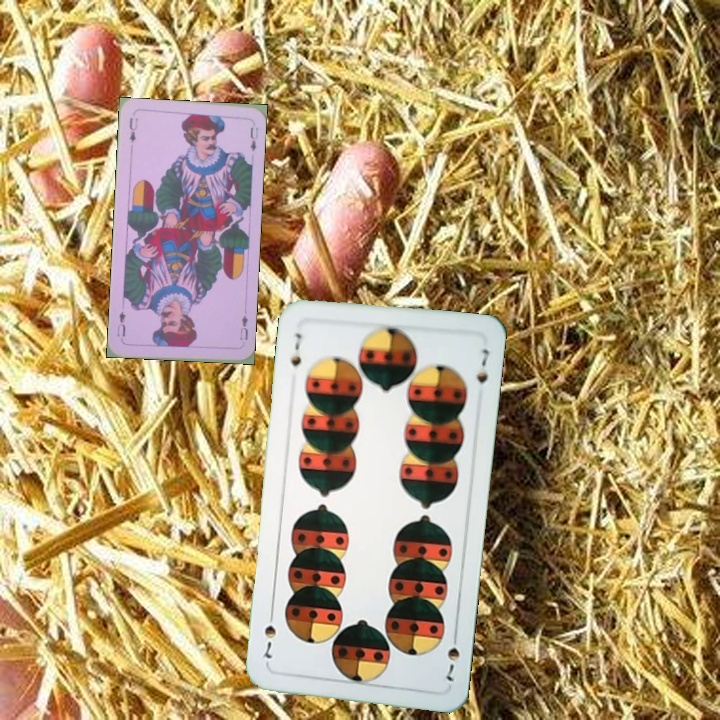EU: (125, 114, 140, 145), (236, 312, 251, 342)
S7: (440, 628, 462, 684), (287, 328, 305, 369)
